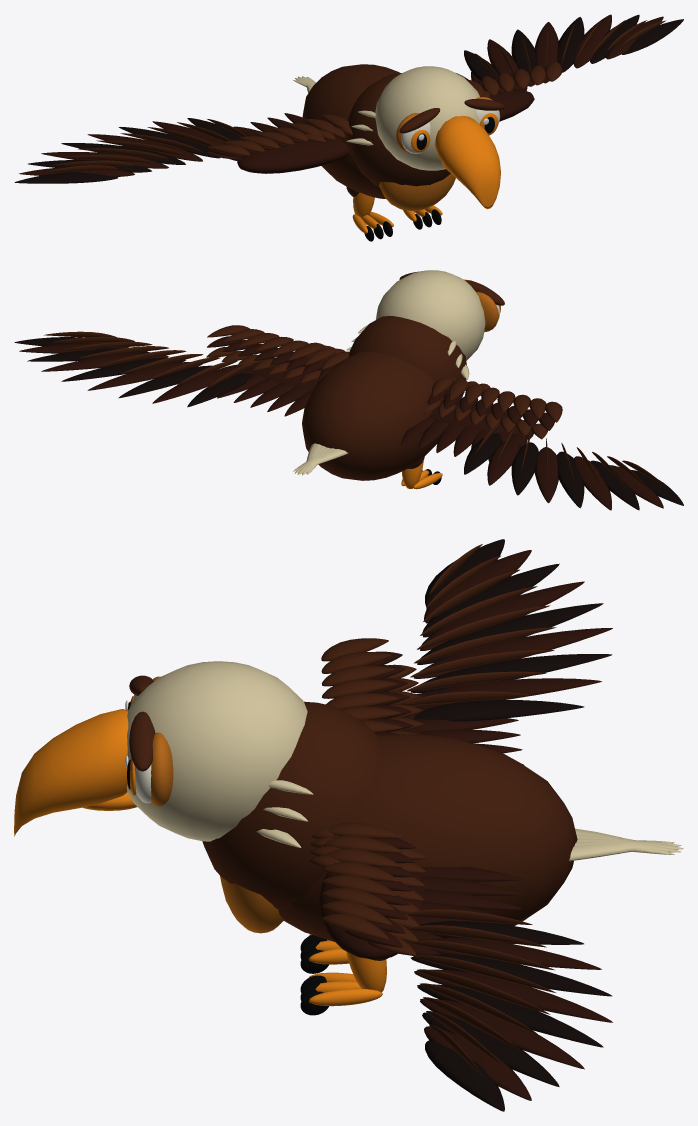
File: Eagle_01_Captain.fbx
3 views of the same model, one above another, from view 1: azimuth 30°, elevation 25°; view 2: azimuth 150°, elevation 25°; view 3: azimuth 270°, elevation 25° (orthographic). The views are drawn at different scales.
Visible parts, largest first — view 1: Body, LeftWingMesh, RightWingMesh; view 2: Body, RightWingMesh, LeftWingMesh; view 3: Body, RightWingMesh, LeftWingMesh.
Boxes of the visible parts, x1,y1,x2,y2 form: Body: (293, 64, 504, 241); LeftWingMesh: (14, 113, 352, 183); RightWingMesh: (456, 14, 683, 121); Body: (293, 270, 504, 489); RightWingMesh: (14, 325, 349, 416); LeftWingMesh: (401, 376, 683, 510); Body: (14, 661, 683, 1015); RightWingMesh: (310, 822, 612, 1111); LeftWingMesh: (321, 539, 612, 764).
Size of the model in its own units: 606 by 156 by 300.
